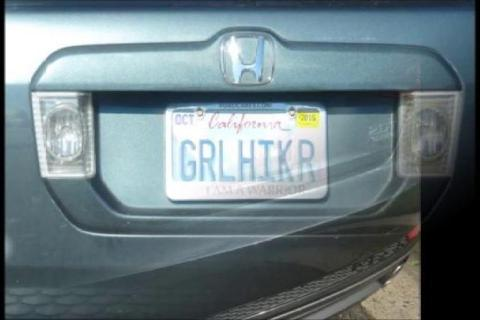LicensePlate: (164, 104, 328, 202)
